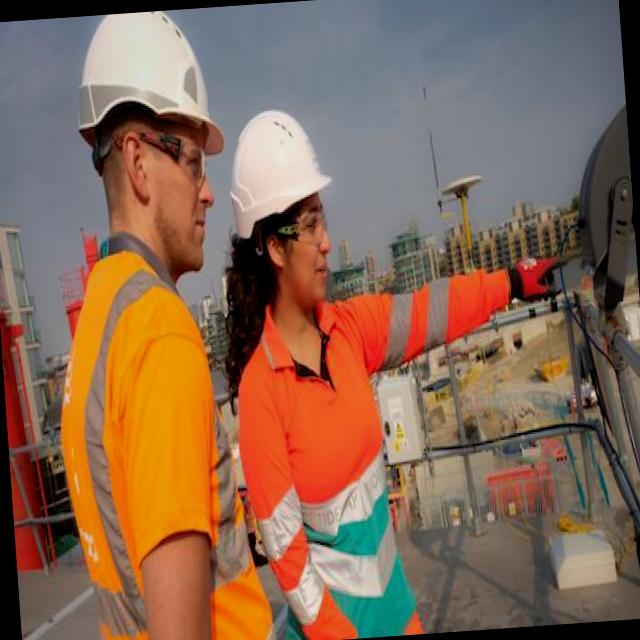helmet: (68, 16, 229, 190), (220, 102, 338, 235)
vest: (61, 250, 259, 640), (239, 290, 436, 640)
